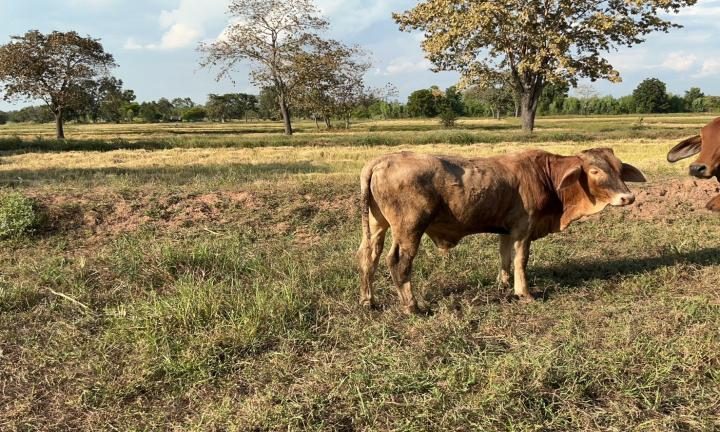Charolais: (358, 148, 646, 313)
